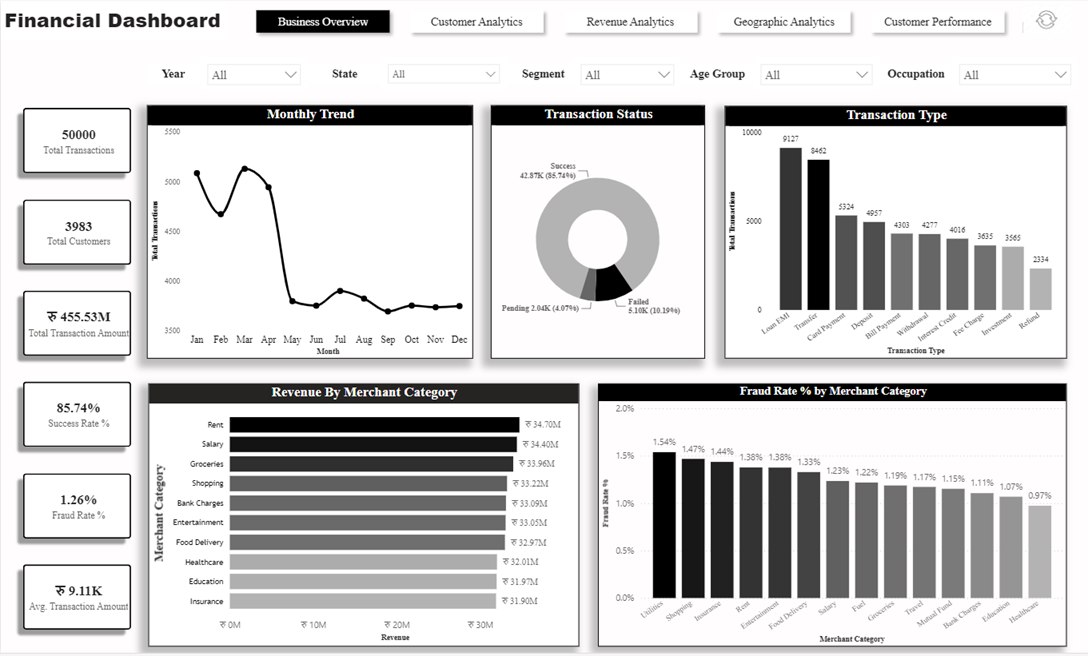

Layout of this report page (visuals, bound fields, positions):
{"tool":"powerbi","page":{"name":"Business Overview","canvas":[1500,900],"ordinal":0},"visuals":[{"type":"group","id":"g1","title":"Group 1","box":[200.6,77.1,224.4,47.5],"z":0,"group":"g6"},{"type":"cardVisual","fields":{"Data":["finance_transactions csv.Total Transactions","finance_transactions csv.Total Customers","finance_transactions csv.Total Transaction Amount","finance_transactions csv.Success Rate %","finance_transactions csv.Fraud Rate %","finance_transactions csv.Average Transaction Amount"]},"box":[0,117.5,211.7,782.3],"z":0},{"type":"group","id":"g2","title":"Group 3","box":[425,77.1,274,47.5],"z":1000,"group":"g6"},{"type":"lineChart","title":"Monthly Trend","fields":{"Category":["finance_transactions csv.Transaction_Month_Name"],"Y":["finance_transactions csv.Total Transactions"]},"box":[201.6,143.6,449.7,350.5],"z":1000},{"type":"group","id":"g3","title":"Group 2","box":[939.3,77.1,273.1,45.5],"z":2000,"group":"g6"},{"type":"advancedSlicerVisual","fields":{"Values":["KPI.KPI"]},"box":[13.4,135.1,186.4,749.1],"z":2000},{"type":"group","id":"g4","title":"Group 4","box":[699,77.1,240.3,45.5],"z":3000,"group":"g6"},{"type":"donutChart","title":"Transaction Status","fields":{"Category":["finance_transactions csv.transaction_status"],"Y":["finance_transactions csv.Total Transactions"]},"box":[675.7,143.6,295.6,350.5],"z":3000},{"type":"group","id":"g5","title":"Group 2","box":[1212.4,77.1,273.1,45.5],"z":4000,"group":"g6"},{"type":"clusteredColumnChart","title":"Transaction Type","fields":{"Category":["finance_transactions csv.transaction_type"],"Y":["finance_transactions csv.Total Transactions"]},"box":[998.3,144.7,472.3,349.3],"z":4000},{"type":"clusteredBarChart","title":"Revenue By Merchant Category","fields":{"Category":["finance_transactions csv.merchant_category"],"Y":["finance_transactions csv.Revenue"]},"box":[203.6,528.1,594.2,363.8],"z":5000},{"type":"group","id":"g6","title":"Group 5","box":[200.6,77.1,1284.8,47.5],"z":6000},{"type":"slicer","fields":{"Values":["finance_transactions csv.Transaction_Year"]},"box":[275.3,77.1,148.9,46.5],"z":6000,"group":"g1"},{"type":"pageNavigator","box":[343.1,4.1,1053,49.6],"z":7000},{"type":"slicer","fields":{"Values":["customers csv.state"]},"box":[524.5,77.1,174.5,46.8],"z":7000,"group":"g2"},{"type":"actionButton","box":[1408.5,0,69.2,51.7],"z":8000},{"type":"slicer","fields":{"Values":["customers csv.customer_segment"]},"box":[790,77.1,148.9,45.5],"z":8000,"group":"g4"},{"type":"textbox","box":[0,2.1,312.1,51.7],"z":9000},{"type":"slicer","fields":{"Values":["customers csv.age_group"]},"box":[1038.4,77.1,174,45.2],"z":9000,"group":"g3"},{"type":"slicer","fields":{"Values":["customers csv.occupation"]},"box":[1311.5,77.1,174,45.2],"z":9000,"group":"g5"},{"type":"textbox","box":[939.3,85.1,99.3,30.3],"z":10000,"group":"g3"},{"type":"textbox","box":[1212.4,85.1,99.3,30.3],"z":10000,"group":"g5"},{"type":"textbox","box":[200.6,85.4,74.7,30.3],"z":10000,"group":"g1"},{"type":"clusteredColumnChart","fields":{"Category":["finance_transactions csv.merchant_category"],"Y":["finance_transactions csv.Fraud Rate %"]},"box":[823.6,528.1,646.9,363.8],"z":10000},{"type":"textbox","box":[425,85.1,99.3,30.3],"z":10002,"group":"g2"},{"type":"textbox","box":[699,85.5,99.3,30.3],"z":10002,"group":"g4"}]}

Visuals, with their boxes in screenshot pixels (x1, y1, x2, y2), scaled from the page's 1500x900 canvas onto the 1088x656 screenshot:
"Group 1" group: 146 56 308 91
cardVisual - finance_transactions csv.Total Transactions x finance_transactions csv.Total Customers: 0 86 154 655
"Group 3" group: 308 56 507 91
"Monthly Trend" lineChart: 146 105 472 360
"Group 2" group: 681 56 879 89
advancedSlicerVisual - KPI.KPI: 10 98 145 644
"Group 4" group: 507 56 681 89
"Transaction Status" donutChart: 490 105 705 360
"Group 2" group: 879 56 1077 89
"Transaction Type" clusteredColumnChart: 724 105 1067 360
"Revenue By Merchant Category" clusteredBarChart: 148 385 579 650
"Group 5" group: 146 56 1077 91
slicer - finance_transactions csv.Transaction_Year: 200 56 308 90
pageNavigator: 249 3 1013 39
slicer - customers csv.state: 380 56 507 90
actionButton: 1022 0 1072 38
slicer - customers csv.customer_segment: 573 56 681 89
textbox: 0 2 226 39
slicer - customers csv.age_group: 753 56 879 89
slicer - customers csv.occupation: 951 56 1077 89
textbox: 681 62 753 84
textbox: 879 62 951 84
textbox: 146 62 200 84
clusteredColumnChart - finance_transactions csv.merchant_category x finance_transactions csv.Fraud Rate %: 597 385 1067 650
textbox: 308 62 380 84
textbox: 507 62 579 84
